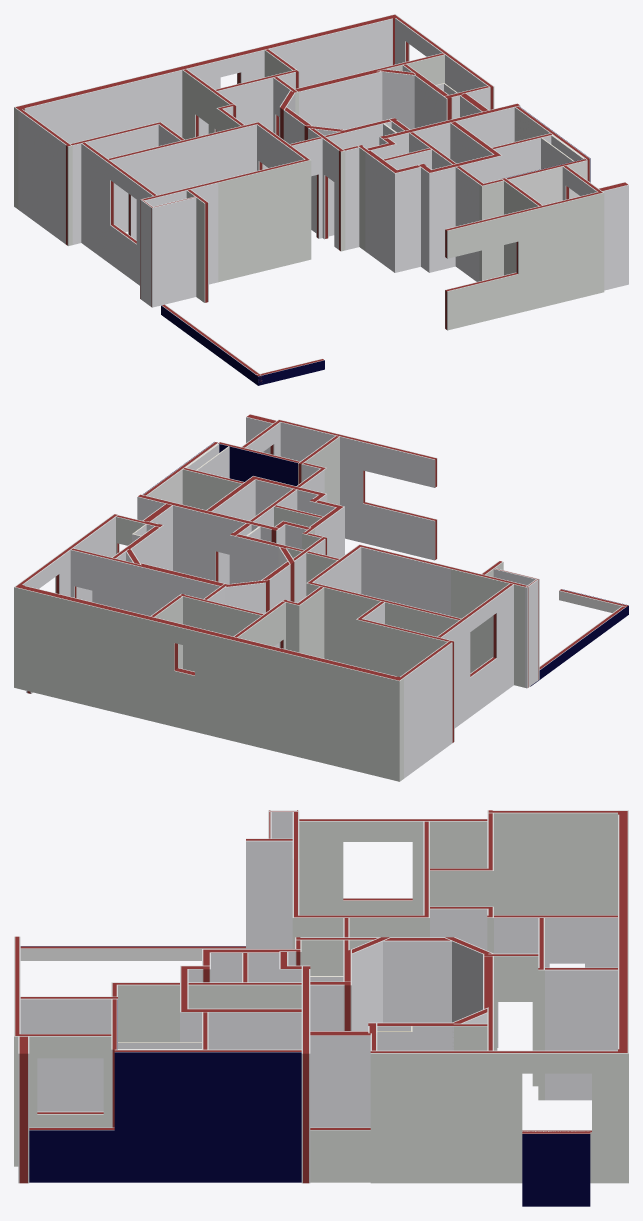
File: PROJETO BIM 12 ANDARES_D_cimo_segundo_IfcWallStandardCase.dae
3 views of the same model, one above another, from view 1: azimuth 30°, elevation 25°; view 2: azimuth 150°, elevation 25°; view 3: azimuth 270°, elevation 25° (orthographic). The views are drawn at different scales.
Visible parts, largest first — view 1: 1C3e13NTDBWfr6F8kTVnSa, 1C3e13NTDBWfr6F8kTVnRK, 1C3e13NTDBWfr6F8kTVnRS, 1C3e13NTDBWfr6F8kTVnRQ, 1C3e13NTDBWfr6F8kTVnRM, 1C3e13NTDBWfr6F8kTVnRL, 1C3e13NTDBWfr6F8kTVnRP, 1C3e13NTDBWfr6F8kTVnR1, 1C3e13NTDBWfr6F8kTVnSm, 1C3e13NTDBWfr6F8kTVnRN, 1C3e13NTDBWfr6F8kTVnS_, 1C3e13NTDBWfr6F8kTVnR9 (+37 smaller); view 2: 1C3e13NTDBWfr6F8kTVnRK, 1C3e13NTDBWfr6F8kTVnRL, 1C3e13NTDBWfr6F8kTVnSa, 1C3e13NTDBWfr6F8kTVnRP, 1C3e13NTDBWfr6F8kTVnRM, 1C3e13NTDBWfr6F8kTVnR9, 1C3e13NTDBWfr6F8kTVnRQ, 1C3e13NTDBWfr6F8kTVnRS, 1C3e13NTDBWfr6F8kTVnR3, 1C3e13NTDBWfr6F8kTVnRN, 1C3e13NTDBWfr6F8kTVnR2, 1C3e13NTDBWfr6F8kTVnSk (+31 smaller); view 3: 1C3e13NTDBWfr6F8kTVnSv, 1C3e13NTDBWfr6F8kTVnR2, 1C3e13NTDBWfr6F8kTVnRM, 1C3e13NTDBWfr6F8kTVnRP, 1C3e13NTDBWfr6F8kTVnSj, 1C3e13NTDBWfr6F8kTVnSb, 1C3e13NTDBWfr6F8kTVnRA, 1C3e13NTDBWfr6F8kTVnSo, 1C3e13NTDBWfr6F8kTVnSh, 3l4Yq7pwrDGumYsSSFGyxR, 1C3e13NTDBWfr6F8kTVnRV, 1C3e13NTDBWfr6F8kTVnSZ (+29 smaller).
Part boxes in pixels (x1=…): 1C3e13NTDBWfr6F8kTVnSa: x1=445, y1=192, x2=599, y2=330; 1C3e13NTDBWfr6F8kTVnRK: x1=14, y1=52, x2=242, y2=209; 1C3e13NTDBWfr6F8kTVnRS: x1=216, y1=159, x2=306, y2=282; 1C3e13NTDBWfr6F8kTVnRQ: x1=108, y1=121, x2=260, y2=239; 1C3e13NTDBWfr6F8kTVnRM: x1=18, y1=109, x2=72, y2=245; 1C3e13NTDBWfr6F8kTVnRL: x1=261, y1=14, x2=399, y2=87; 1C3e13NTDBWfr6F8kTVnRP: x1=81, y1=142, x2=157, y2=285; 1C3e13NTDBWfr6F8kTVnR1: x1=153, y1=196, x2=196, y2=306; 1C3e13NTDBWfr6F8kTVnSm: x1=295, y1=70, x2=382, y2=129; 1C3e13NTDBWfr6F8kTVnRN: x1=70, y1=122, x2=162, y2=244; 1C3e13NTDBWfr6F8kTVnS_: x1=391, y1=165, x2=420, y2=272; 1C3e13NTDBWfr6F8kTVnR9: x1=379, y1=103, x2=520, y2=158; 1C3e13NTDBWfr6F8kTVnRK: x1=172, y1=623, x2=403, y2=781; 1C3e13NTDBWfr6F8kTVnRL: x1=14, y1=584, x2=154, y2=720; 1C3e13NTDBWfr6F8kTVnSa: x1=280, y1=420, x2=437, y2=560; 1C3e13NTDBWfr6F8kTVnRP: x1=437, y1=583, x2=513, y2=728; 1C3e13NTDBWfr6F8kTVnRM: x1=400, y1=640, x2=454, y2=778; 1C3e13NTDBWfr6F8kTVnR9: x1=137, y1=494, x2=280, y2=581; 1C3e13NTDBWfr6F8kTVnRQ: x1=306, y1=581, x2=460, y2=666; 1C3e13NTDBWfr6F8kTVnRS: x1=361, y1=545, x2=452, y2=615; 1C3e13NTDBWfr6F8kTVnR3: x1=70, y1=548, x2=143, y2=614; 1C3e13NTDBWfr6F8kTVnRN: x1=356, y1=617, x2=449, y2=676; 1C3e13NTDBWfr6F8kTVnR2: x1=19, y1=514, x2=117, y2=601; 1C3e13NTDBWfr6F8kTVnSk: x1=150, y1=617, x2=176, y2=726; 1C3e13NTDBWfr6F8kTVnSv: x1=29, y1=1049, x2=301, y2=1182; 1C3e13NTDBWfr6F8kTVnR2: x1=370, y1=1050, x2=617, y2=1183; 1C3e13NTDBWfr6F8kTVnRM: x1=487, y1=810, x2=617, y2=915; 1C3e13NTDBWfr6F8kTVnRP: x1=299, y1=819, x2=487, y2=915; 1C3e13NTDBWfr6F8kTVnSj: x1=545, y1=967, x2=617, y2=1100; 1C3e13NTDBWfr6F8kTVnSb: x1=20, y1=996, x2=117, y2=1111; 1C3e13NTDBWfr6F8kTVnRA: x1=310, y1=1031, x2=370, y2=1127; 1C3e13NTDBWfr6F8kTVnSo: x1=383, y1=937, x2=451, y2=1022; 1C3e13NTDBWfr6F8kTVnSh: x1=494, y1=915, x2=617, y2=1047; 3l4Yq7pwrDGumYsSSFGyxR: x1=522, y1=1131, x2=590, y2=1206; 1C3e13NTDBWfr6F8kTVnRV: x1=246, y1=838, x2=292, y2=948; 1C3e13NTDBWfr6F8kTVnSZ: x1=14, y1=1034, x2=111, y2=1166.
Size of the model in its own units: 13.08 by 13.9 by 3.78.
